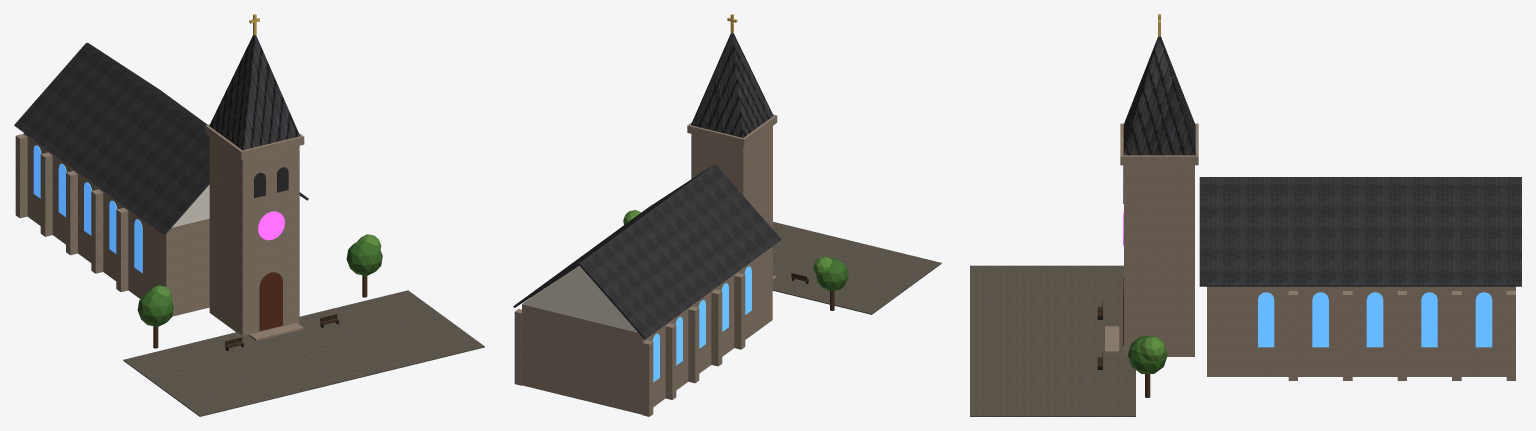
File: OT_Church_A.glb
3 renders of one model, left to right at view 1: azimuth 30°, elevation 25°; view 2: azimuth 150°, elevation 25°; view 3: azimuth 270°, elevation 25°, orthographic. The views are drawn at different scales.
Parts seen in each view (by area): view 1: OT_Church_A_Stone, OT_Church_A_Slate, OT_Church_A_Pavement, OT_Church_A_Stained__3a6ea8, OT_Church_A_Leaf__3f6e2c, OT_Church_A_ChurchDoor__5a2e1c, OT_Church_A_Gable__e8e2d4, OT_Church_A_RoseWin__8a3a9e, OT_Church_A_Louver__2a2c30; view 2: OT_Church_A_Stone, OT_Church_A_Slate, OT_Church_A_Pavement, OT_Church_A_Gable__e8e2d4, OT_Church_A_Stained__3a6ea8, OT_Church_A_Leaf__3f6e2c, OT_Church_A_Leaf2__58893a; view 3: OT_Church_A_Slate, OT_Church_A_Stone, OT_Church_A_Pavement, OT_Church_A_Stained__3a6ea8, OT_Church_A_Leaf__3f6e2c, OT_Church_A_Leaf2__58893a.
Boxes of the visible parts, x1,y1,x2,y2 form: OT_Church_A_Stone: (15, 124, 304, 341); OT_Church_A_Slate: (14, 35, 308, 235); OT_Church_A_Pavement: (123, 290, 484, 416); OT_Church_A_Stained__3a6ea8: (33, 145, 142, 272); OT_Church_A_Leaf__3f6e2c: (137, 241, 382, 326); OT_Church_A_ChurchDoor__5a2e1c: (259, 272, 282, 330); OT_Church_A_Gable__e8e2d4: (171, 184, 209, 227); OT_Church_A_RoseWin__8a3a9e: (258, 211, 284, 240); OT_Church_A_Louver__2a2c30: (254, 167, 288, 198); OT_Church_A_Stone: (514, 114, 777, 416); OT_Church_A_Slate: (513, 33, 781, 339); OT_Church_A_Pavement: (772, 222, 941, 314); OT_Church_A_Gable__e8e2d4: (522, 266, 637, 332); OT_Church_A_Stained__3a6ea8: (652, 266, 751, 382); OT_Church_A_Leaf__3f6e2c: (816, 258, 848, 291); OT_Church_A_Leaf2__58893a: (623, 210, 831, 275); OT_Church_A_Slate: (1123, 36, 1521, 286); OT_Church_A_Stone: (1105, 123, 1515, 380); OT_Church_A_Pavement: (970, 265, 1135, 416); OT_Church_A_Stained__3a6ea8: (1258, 292, 1492, 347); OT_Church_A_Leaf__3f6e2c: (1127, 336, 1167, 373); OT_Church_A_Leaf2__58893a: (1140, 337, 1165, 361).
Size of the model in its own units: 30 by 30.5 by 46.6.
14 materials, 4 textured.
